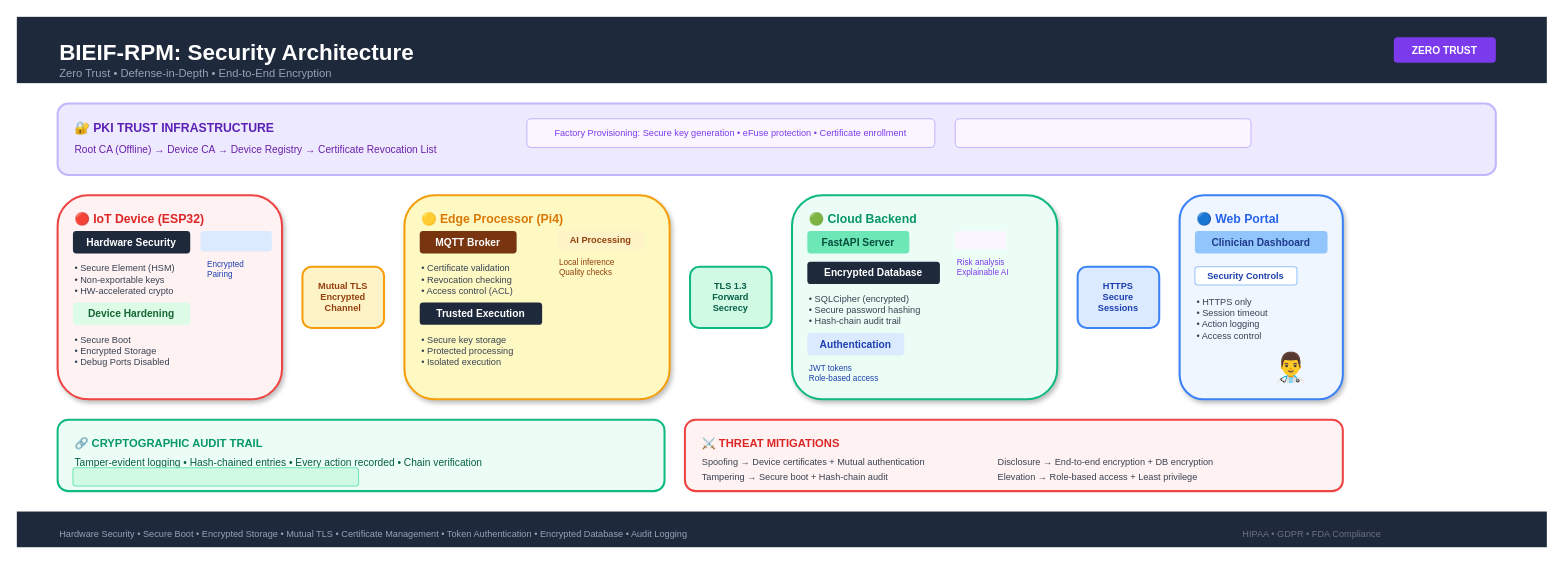
Image size: 1564x564. Some labels were removed from this diagram. The shapes that lost their labels are listed below. From the top down, each one's centre as x and y in pixels, then its label:
the point at 1102,132: Certificate Lifecycle: Auto-rotation • Revocation • Validation
the point at 235,241: BLE Security
the point at 980,240: AI/XAI
the point at 215,476: [Genesis] → [Login] → [Ingest] → [View] → ... → ✓
